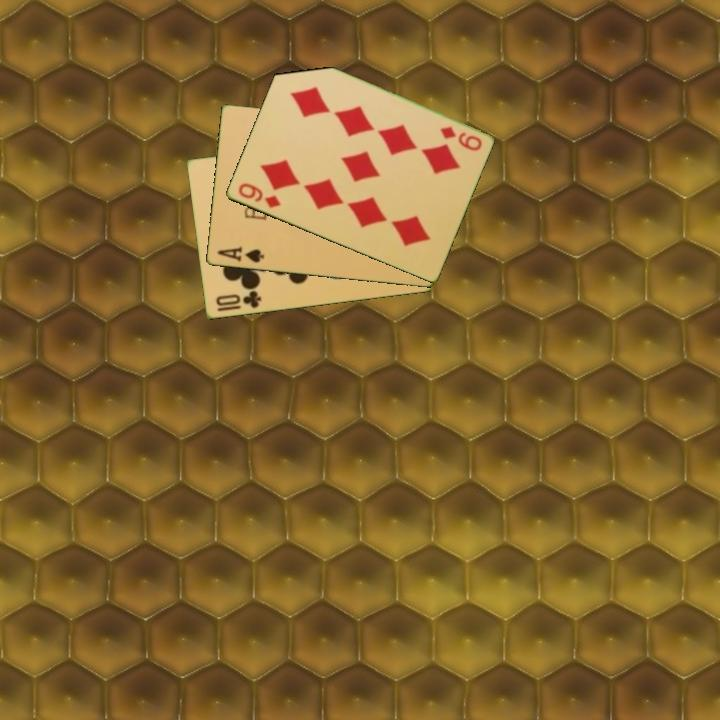10c: (212, 287, 264, 311)
9d: (234, 179, 283, 211), (436, 123, 485, 154)
As: (213, 243, 266, 266)
